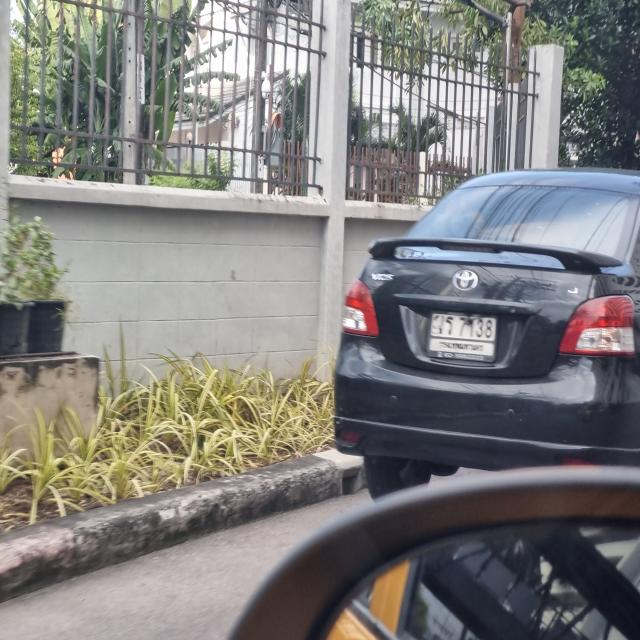license_plate: (428, 302, 500, 369)
